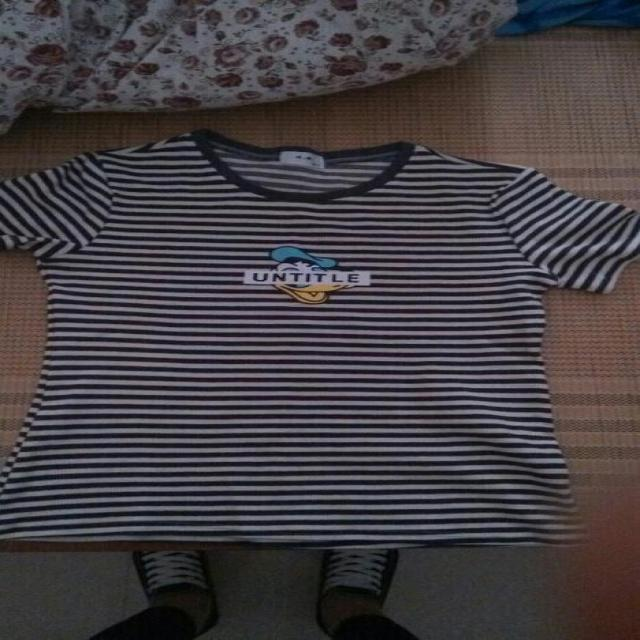short sleeve top: (4, 130, 636, 547)
